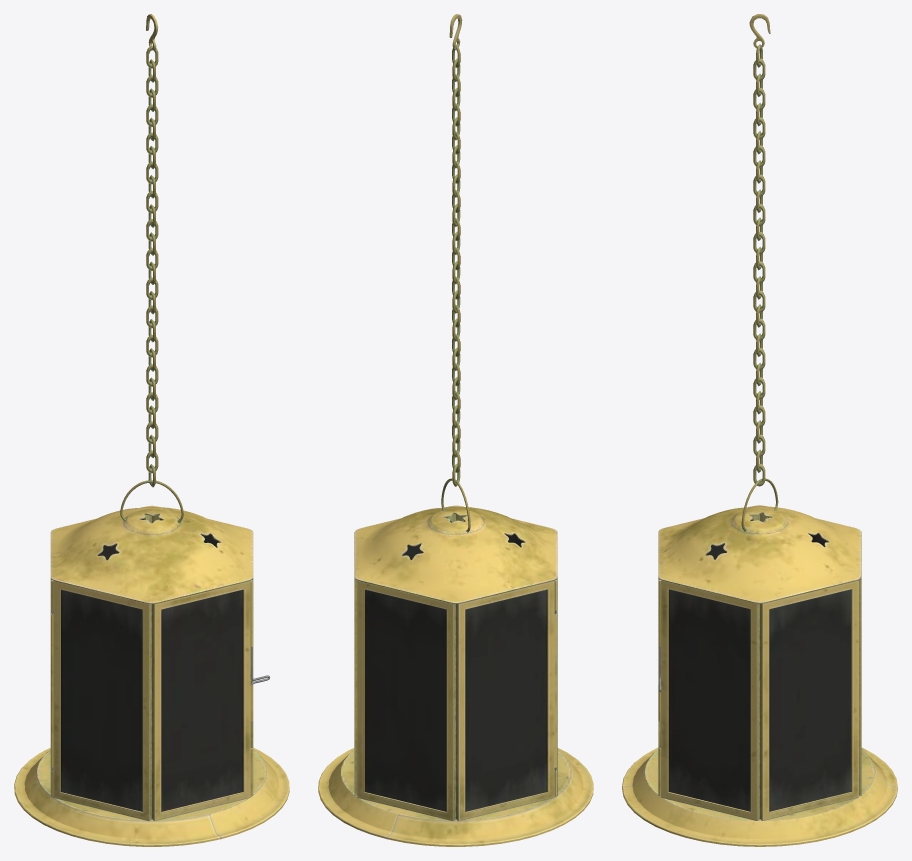
File: brass_diya_lantern.glb
3 views of the same model, side by side, from view 1: azimuth 30°, elevation 25°; view 2: azimuth 150°, elevation 25°; view 3: azimuth 270°, elevation 25° (orthographic).
Parts seen in each view (by area): view 1: brass_diya_lantern, brass_diya_lantern_connection; view 2: brass_diya_lantern, brass_diya_lantern_connection; view 3: brass_diya_lantern, brass_diya_lantern_connection.
Boxes of the visible parts, <box> form: brass_diya_lantern: <box>14,505,289,846</box>; brass_diya_lantern_connection: <box>120,14,183,522</box>; brass_diya_lantern: <box>318,505,593,846</box>; brass_diya_lantern_connection: <box>441,14,470,532</box>; brass_diya_lantern: <box>622,505,897,846</box>; brass_diya_lantern_connection: <box>741,14,778,531</box>.
Size of the model in its own units: 0.123 by 0.3808 by 0.123.
Materials: 3 (3 with a texture image).
